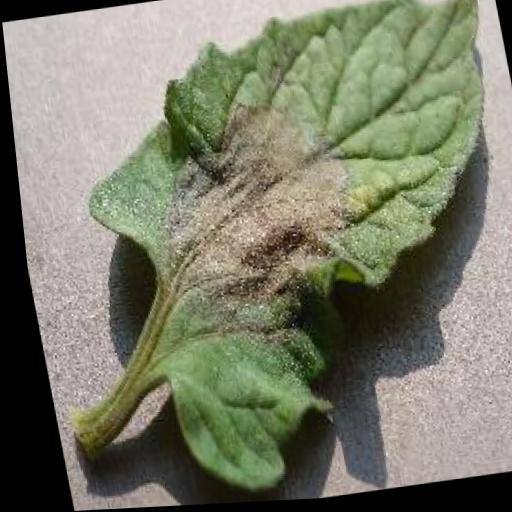Late Blight: (50, 0, 512, 509)
